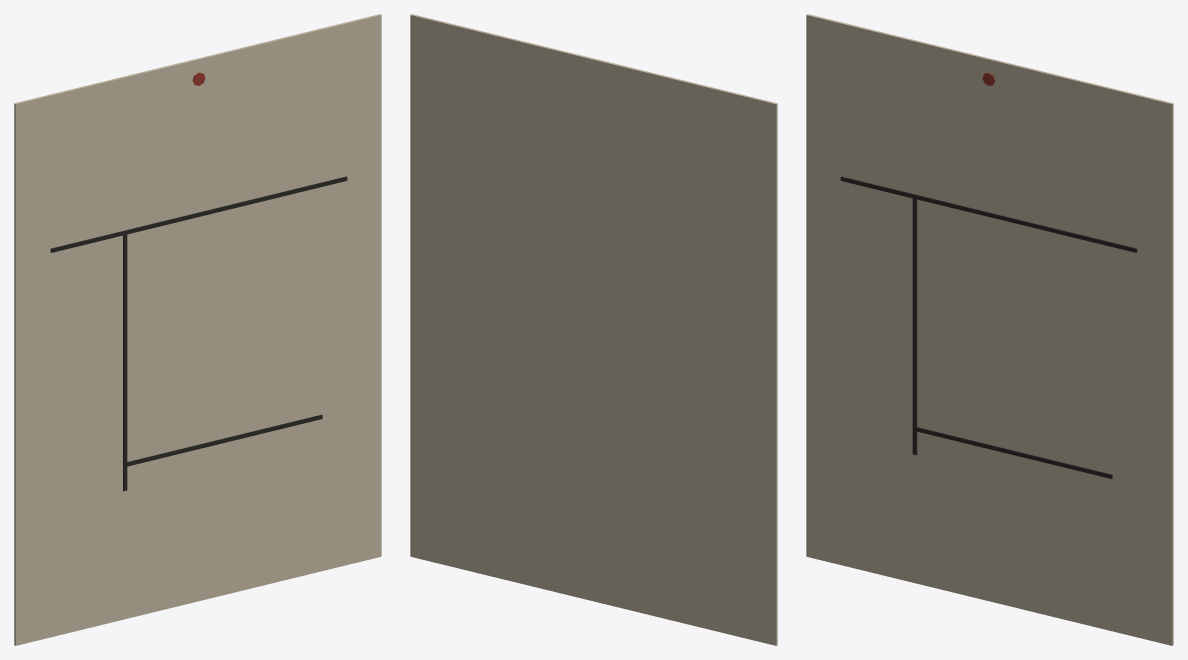
File: wiring-diagram.glb
3 renders of one model, left to right at view 1: azimuth 30°, elevation 25°; view 2: azimuth 150°, elevation 25°; view 3: azimuth 330°, elevation 25°, orthographic.
Parts seen in each view (by area): view 1: paper, plastic-dark; view 2: paper; view 3: paper, plastic-dark.
Boxes of the visible parts, box(x1,y1,x2,y2) form: paper: box(14, 14, 381, 645); plastic-dark: box(50, 176, 347, 491); paper: box(410, 14, 777, 645); paper: box(806, 14, 1173, 645); plastic-dark: box(840, 176, 1137, 478).
Bounding box in the file's own units: 0.297 × 0.42 × 0.003.
